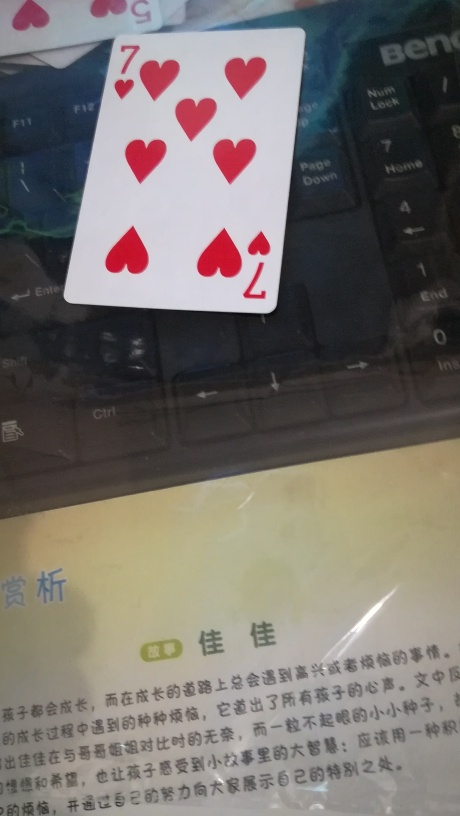hx 7: (63, 25, 303, 318)
